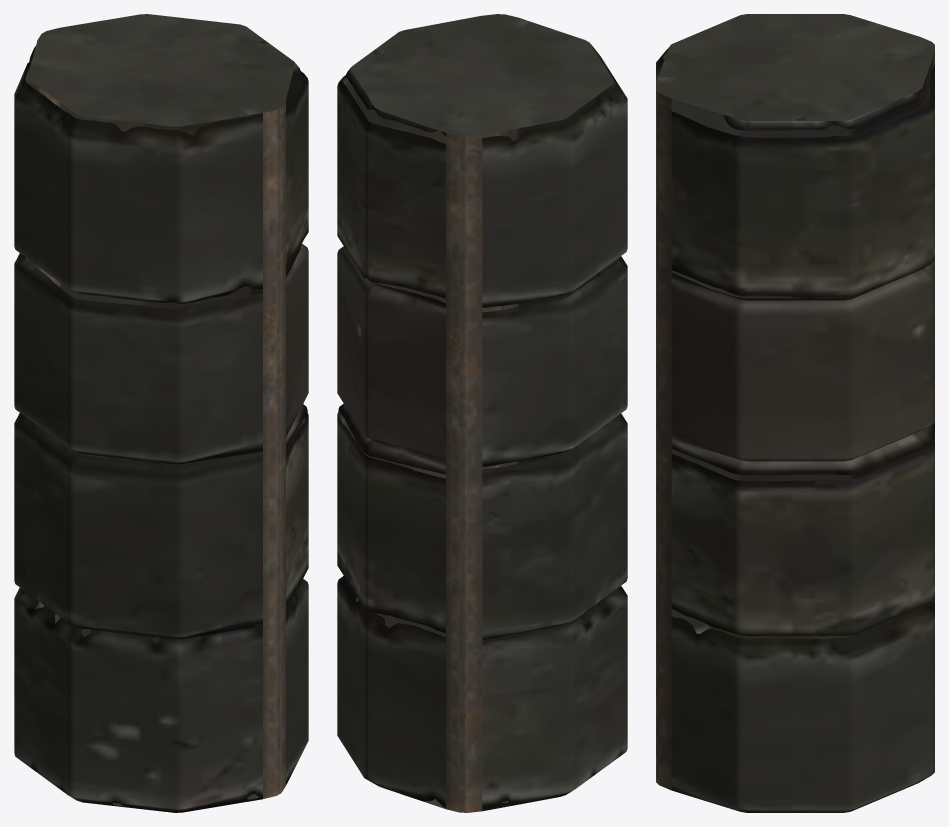
3 renders of one model, left to right at view 1: azimuth 30°, elevation 25°; view 2: azimuth 150°, elevation 25°; view 3: azimuth 270°, elevation 25°, orthographic. The views are drawn at different scales.
Parts seen in each view (by area): view 1: SM_Dowdun_Pillar_A_02_LOD0; view 2: SM_Dowdun_Pillar_A_02_LOD0; view 3: SM_Dowdun_Pillar_A_02_LOD0.
Part boxes in pixels (<box>): SM_Dowdun_Pillar_A_02_LOD0: <box>14,14,308,812</box>; SM_Dowdun_Pillar_A_02_LOD0: <box>337,14,627,812</box>; SM_Dowdun_Pillar_A_02_LOD0: <box>656,14,934,812</box>.
Bounding box in the file's own units: 0.7308 × 2 × 0.7308.
Materials: 1 (1 with a texture image).
